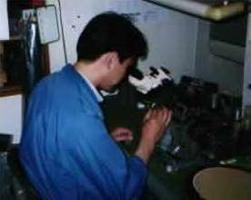person without safety: (16, 11, 173, 167)
